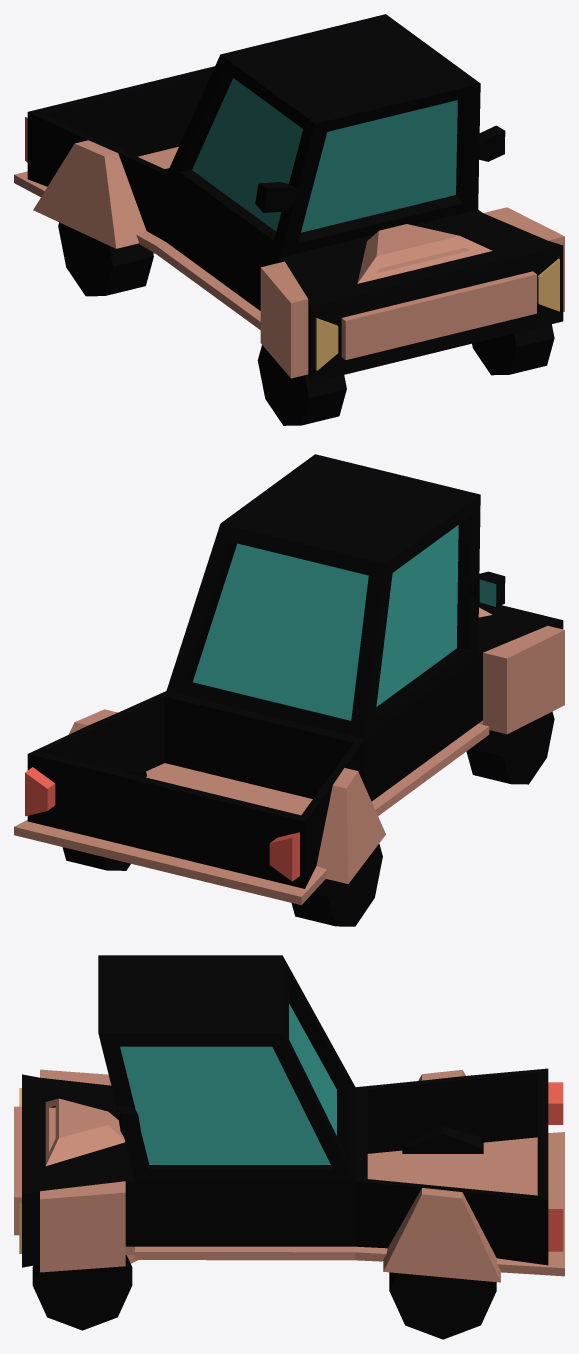
The model's file is pickup.fbx.
The picture shows the model from 3 angles, top to bottom: view 1: azimuth 30°, elevation 25°; view 2: azimuth 150°, elevation 25°; view 3: azimuth 270°, elevation 25°; orthographic projection. The views are drawn at different scales.
Parts seen in each view (by area): view 1: pickup; view 2: pickup; view 3: pickup.
Part boxes in pixels (left/top/right/bottom): pickup: left=14, top=14, right=564, bottom=425; pickup: left=14, top=454, right=564, bottom=926; pickup: left=14, top=955, right=564, bottom=1339.
Size of the model in its own units: 115 by 101 by 179.
